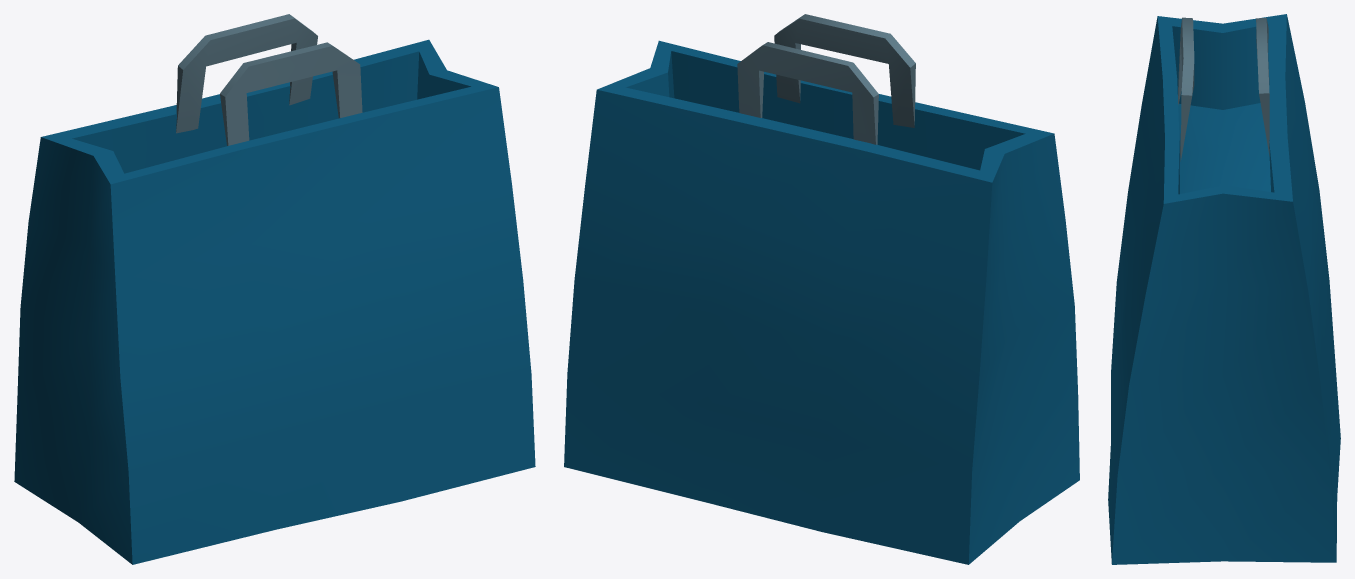
File: bag_02.fbx
The picture shows the model from 3 angles, left to right: view 1: azimuth 30°, elevation 25°; view 2: azimuth 150°, elevation 25°; view 3: azimuth 270°, elevation 25°; orthographic projection. The views are drawn at different scales.
Visible parts, largest first — view 1: bag_02; view 2: bag_02; view 3: bag_02.
Part boxes in pixels (x1,y1,x2,y2): bag_02: [14, 14, 535, 564]; bag_02: [564, 14, 1079, 564]; bag_02: [1108, 14, 1340, 564].
Bounding box in the file's own units: 65.54 × 66.63 × 32.9.
